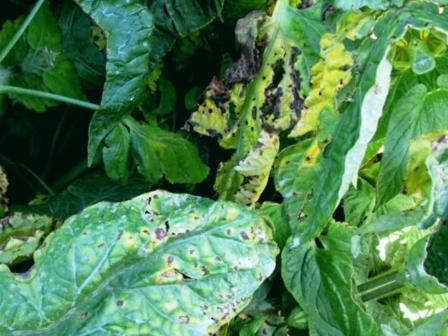Tomato Early blight leaf: (22, 145, 308, 336)
